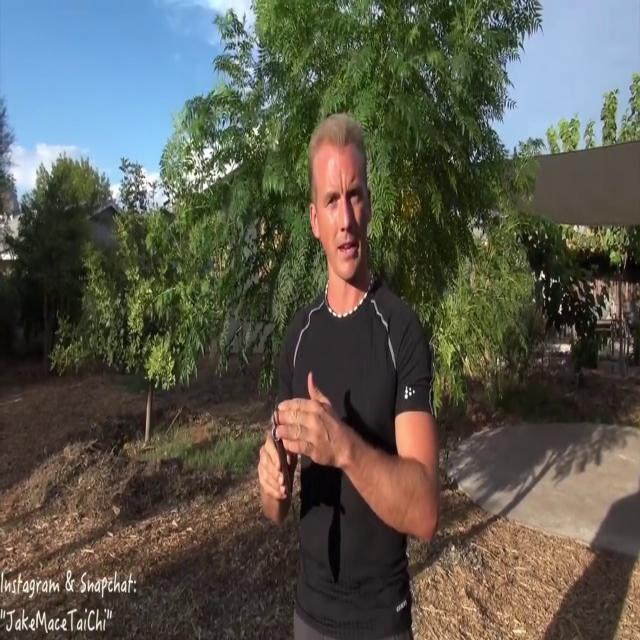knife: (267, 405, 320, 593)
